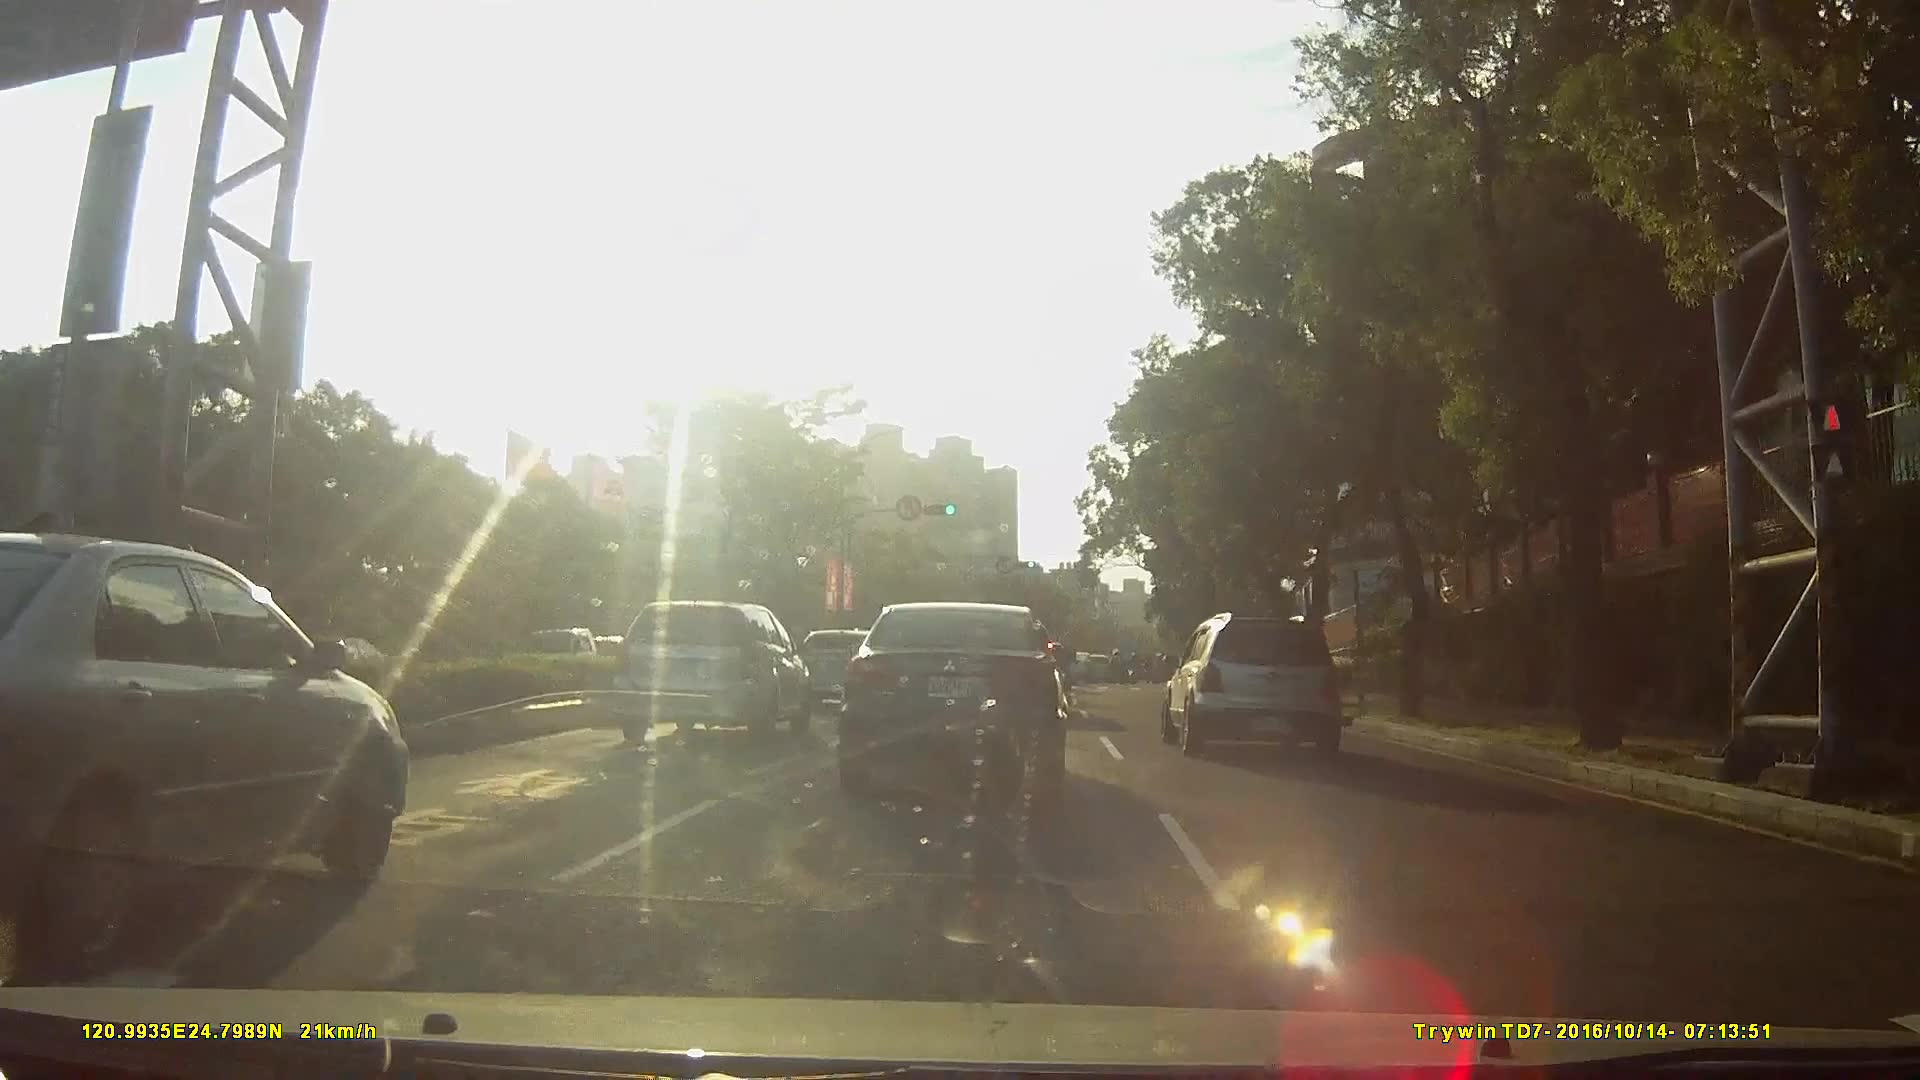vehicle: (1, 526, 423, 976), (837, 597, 1065, 804), (607, 601, 812, 746), (1154, 611, 1356, 756), (1059, 650, 1095, 683), (1081, 653, 1116, 684)
